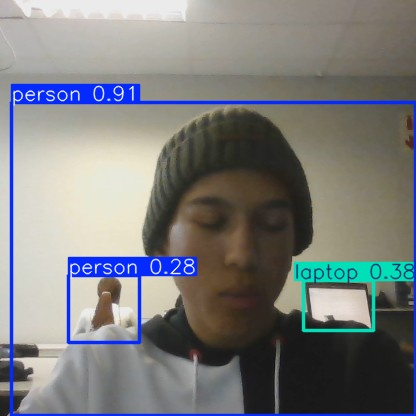laptop: (303, 281, 374, 331)
